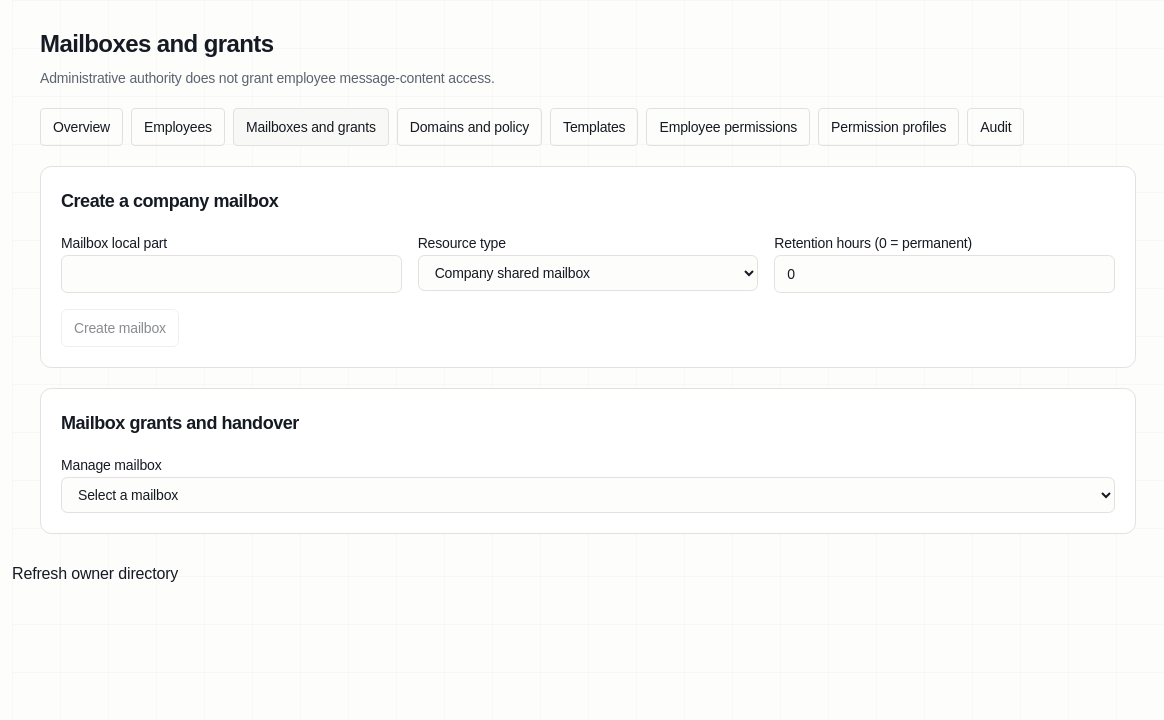
Test case: mailbox creation request and draft ownership › does not clear a new A → B → A resource type intent
Type "requested-local" into the field labelled "Mailbox local part".
click(231, 274); type("requested-local")  # box x1=61 y1=255 x2=402 y2=293
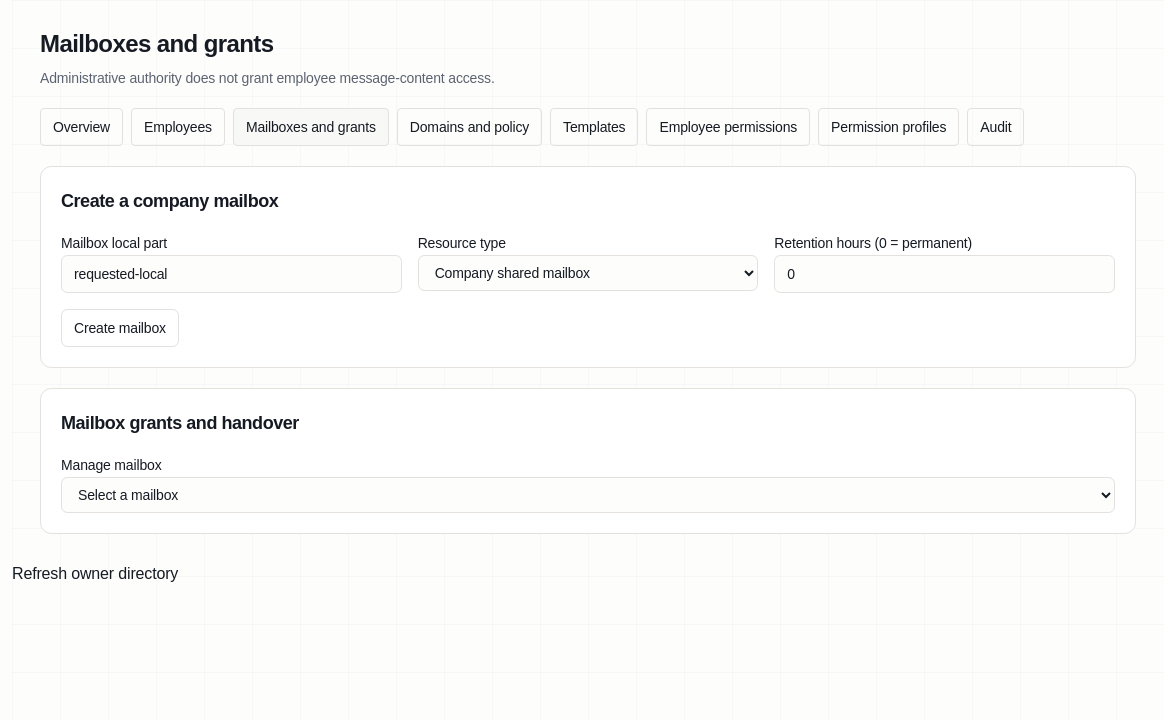
Replace the text in the number field labelled "Retention hours (0 = permanent)" with "24" at {"x": 945, "y": 274}, box x1=774 y1=255 x2=1115 y2=293
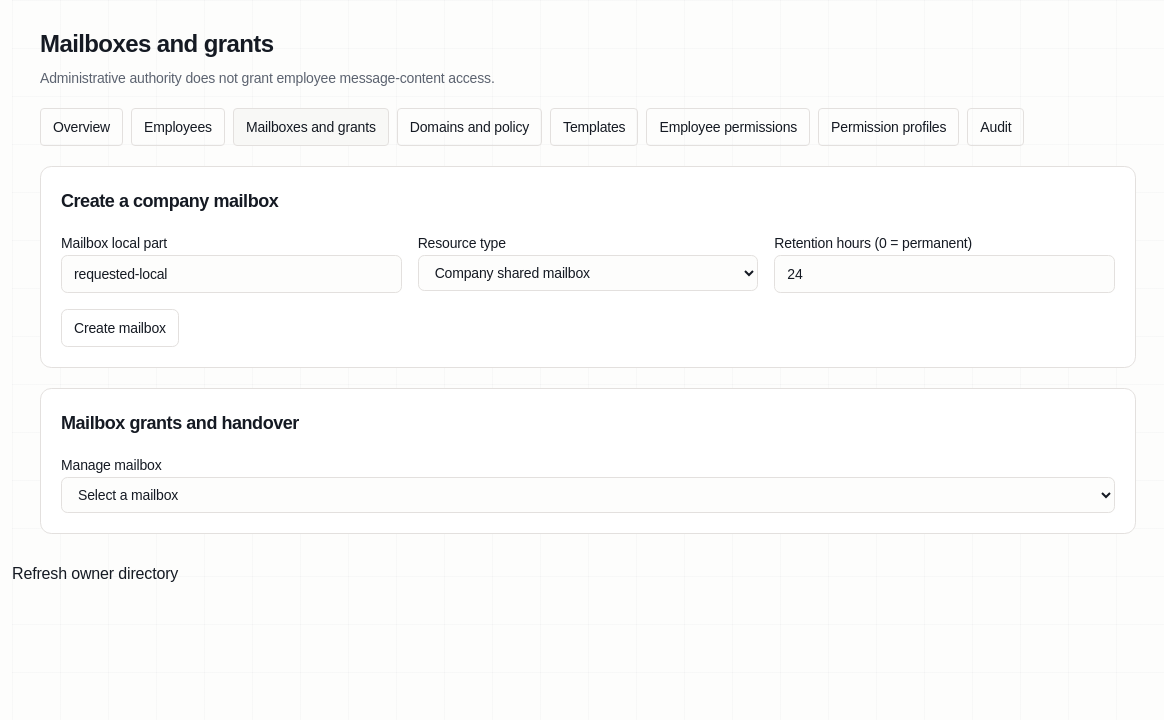
Click the button "Create mailbox".
click(120, 328)  # box x1=61 y1=309 x2=179 y2=347
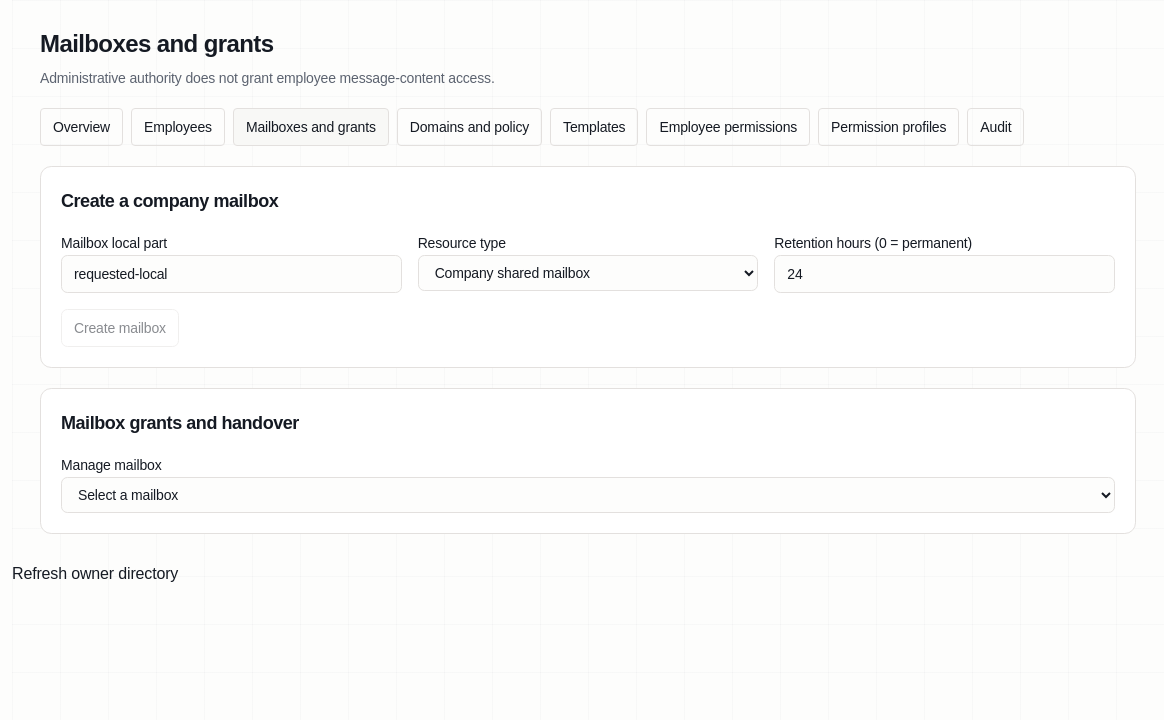
Select "Personal mailbox" in the dropdown labelled "Resource type" at {"x": 588, "y": 273}, box x1=418 y1=255 x2=758 y2=291
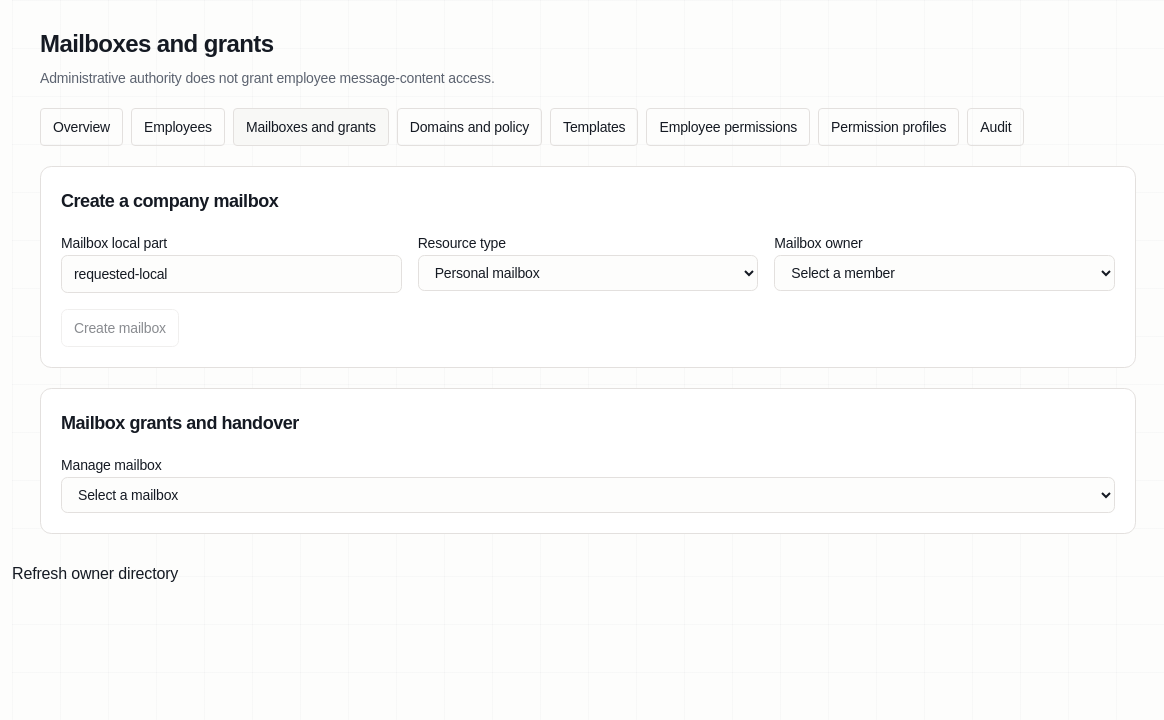
Select "Company shared mailbox" in the dropdown labelled "Resource type" at {"x": 588, "y": 273}, box x1=418 y1=255 x2=758 y2=291
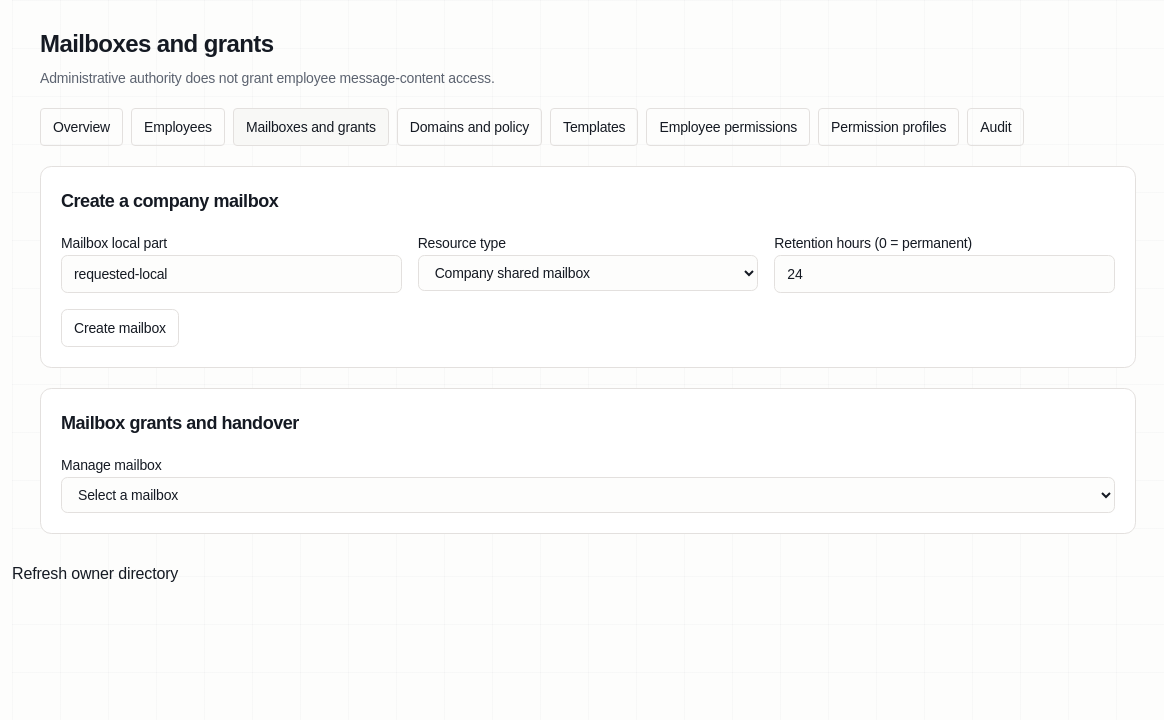
Check: the number field labelled "Retention hours (0 = permanent)" holds "24", box x1=774 y1=255 x2=1115 y2=293
